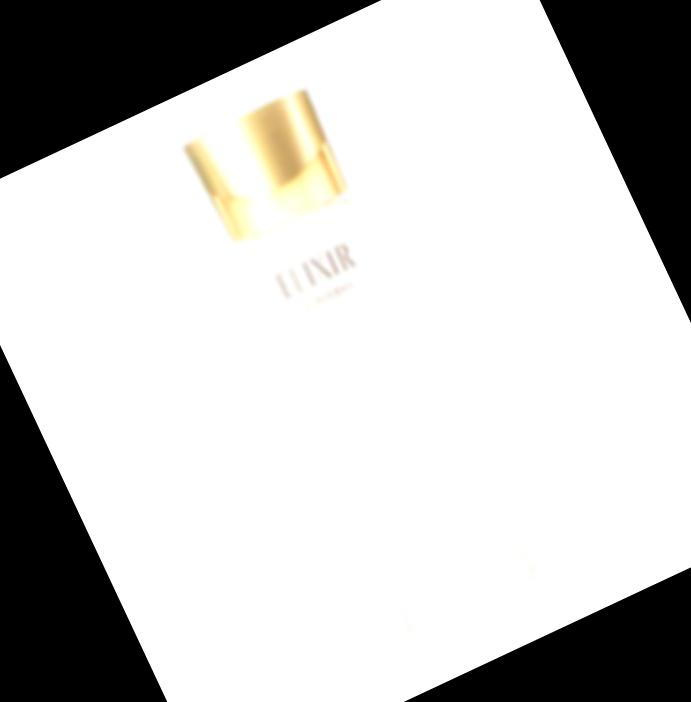cosmetic: (182, 82, 542, 641)
